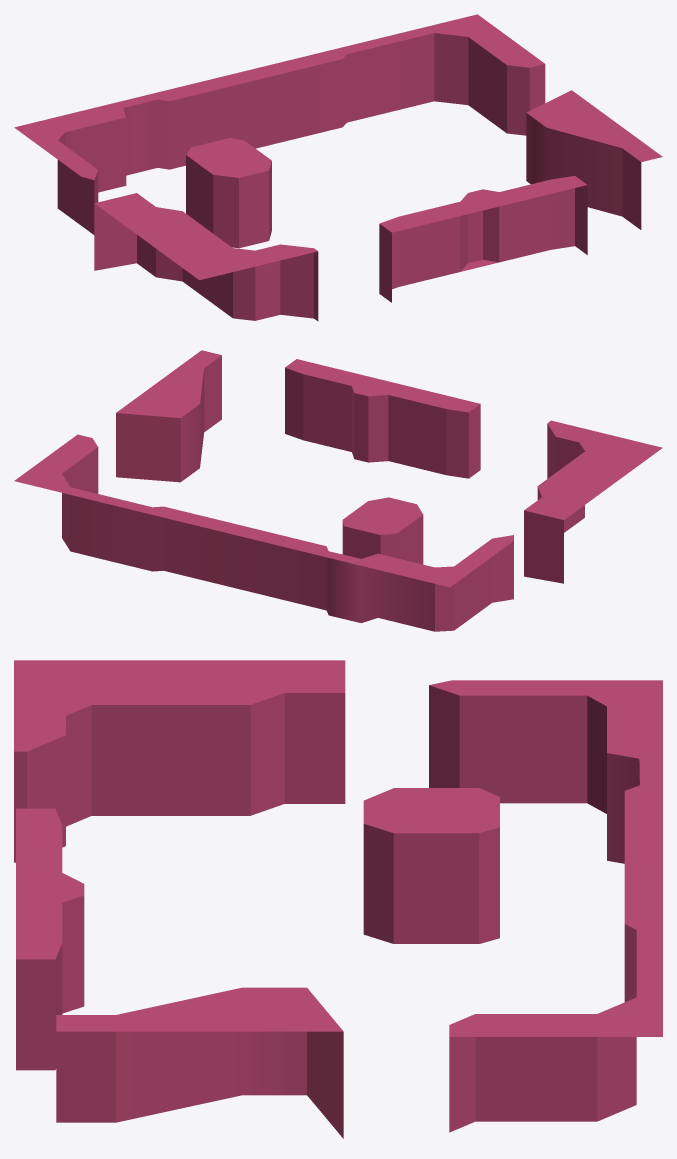
Rendered from CenterTop_Colliders.fbx.
The picture shows the model from 3 angles, top to bottom: view 1: azimuth 30°, elevation 25°; view 2: azimuth 150°, elevation 25°; view 3: azimuth 270°, elevation 25°; orthographic projection. The views are drawn at different scales.
Visible parts, largest first — view 1: CenterTop_Colliders1_pCube1; view 2: CenterTop_Colliders1_pCube1; view 3: CenterTop_Colliders1_pCube1.
Boxes of the visible parts, x1,y1,x2,y2 form: CenterTop_Colliders1_pCube1: [14, 14, 662, 321]; CenterTop_Colliders1_pCube1: [14, 350, 662, 631]; CenterTop_Colliders1_pCube1: [14, 660, 662, 1138].
Size of the model in its own units: 1823 by 309 by 1343.
